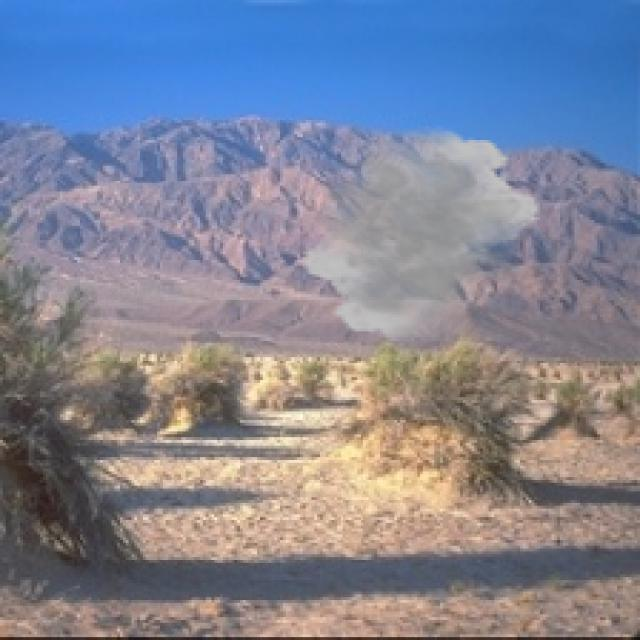Smoke: (300, 126, 543, 346)
